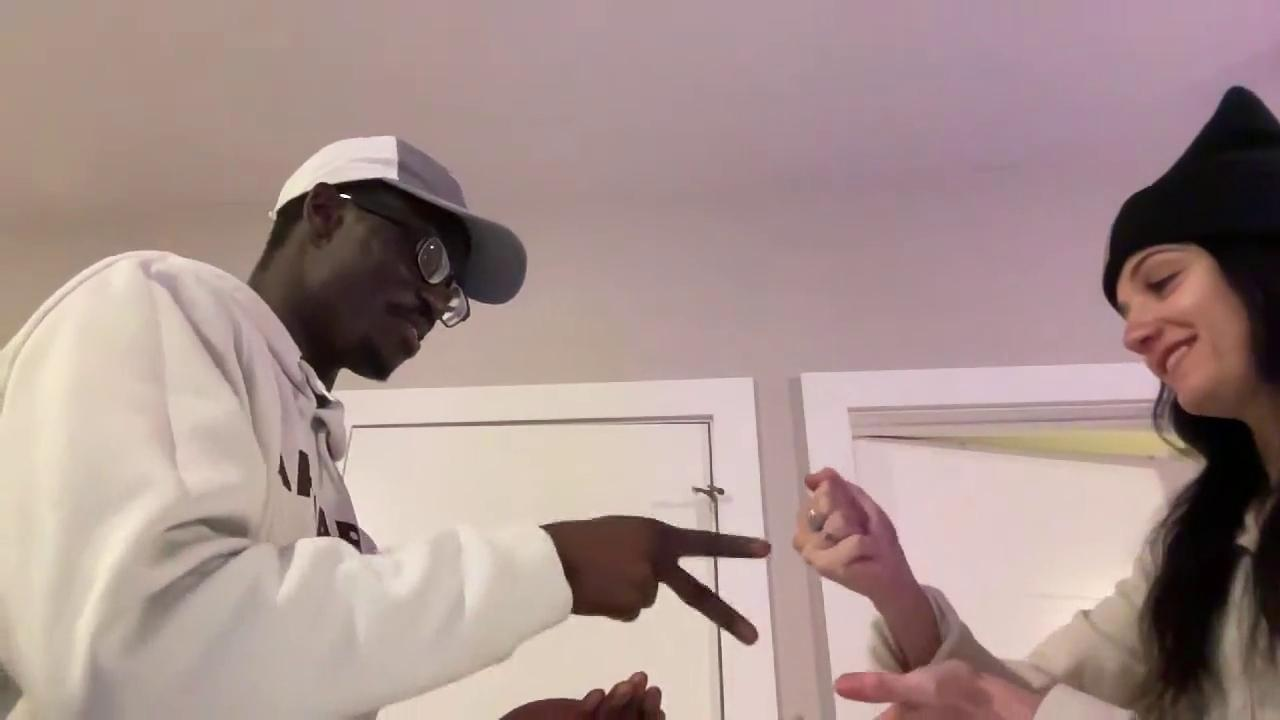Rock: (792, 467, 898, 601)
Scissors: (543, 515, 771, 648)
